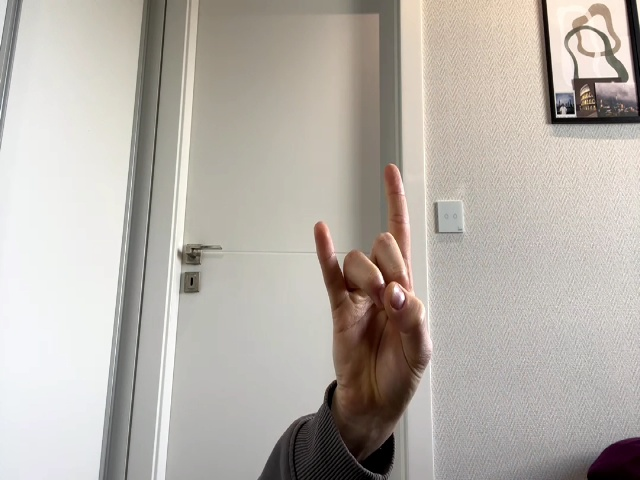Y: (314, 163, 433, 395)
